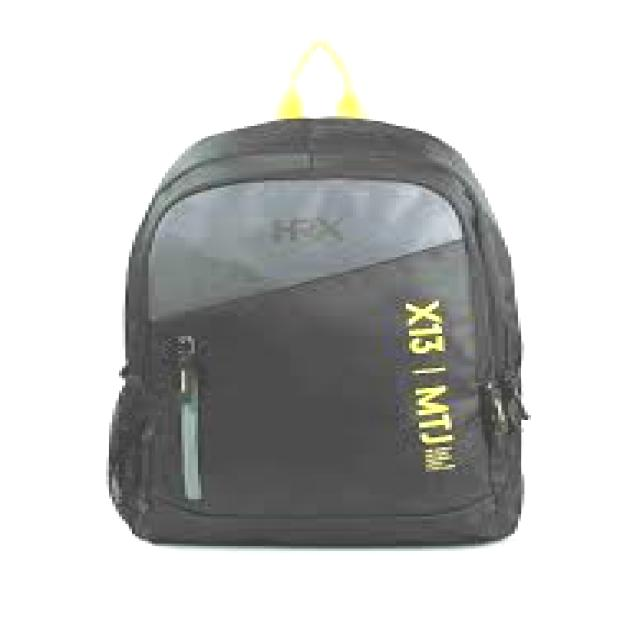backpack: (103, 38, 529, 547)
